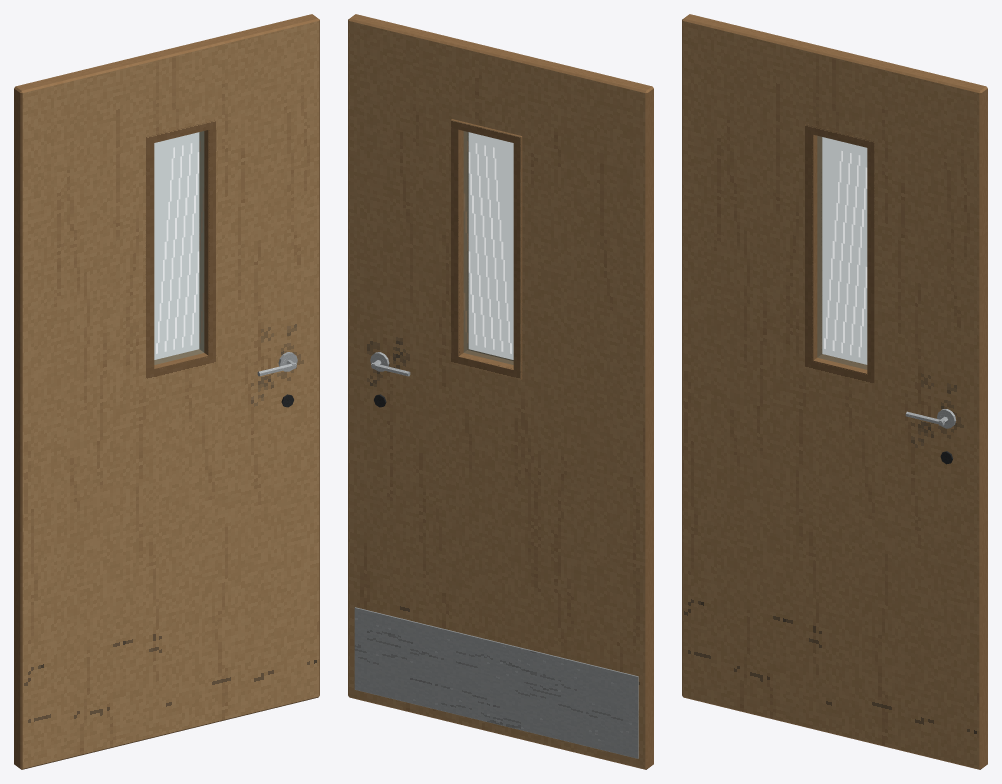
Rendered from door_service_2.glb.
3 renders of one model, left to right at view 1: azimuth 30°, elevation 25°; view 2: azimuth 150°, elevation 25°; view 3: azimuth 330°, elevation 25°, orthographic.
Visible parts, largest first — view 1: leaf_body, door_glass, glass_bead_front; view 2: leaf_body, kick_plate, door_glass, glass_bead_back; view 3: leaf_body, door_glass, glass_bead_front.
Part boxes in pixels (x1,y1,x2,y2): leaf_body: [14, 14, 319, 769]; door_glass: [154, 131, 203, 364]; glass_bead_front: [145, 119, 216, 379]; leaf_body: [348, 14, 653, 769]; kick_plate: [354, 607, 638, 758]; door_glass: [464, 131, 513, 364]; glass_bead_back: [451, 119, 522, 379]; leaf_body: [682, 14, 987, 769]; door_glass: [817, 136, 866, 369]; glass_bead_front: [804, 124, 874, 384].
Bounding box in the file's own units: 0.95 × 2.06 × 0.1217.
2 materials, 2 textured.
